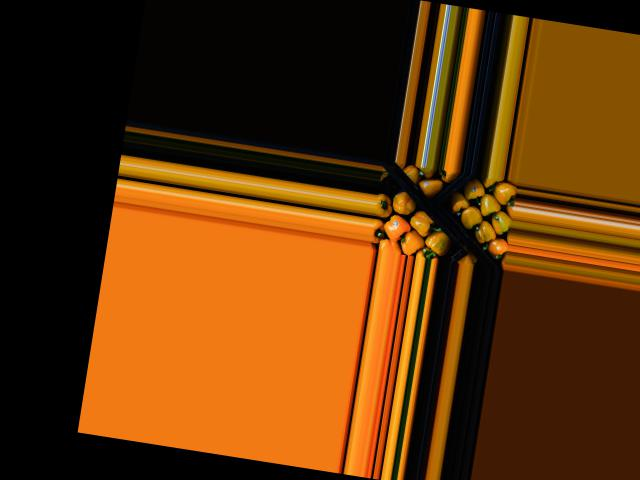bell_pepper: (487, 176, 517, 203)
